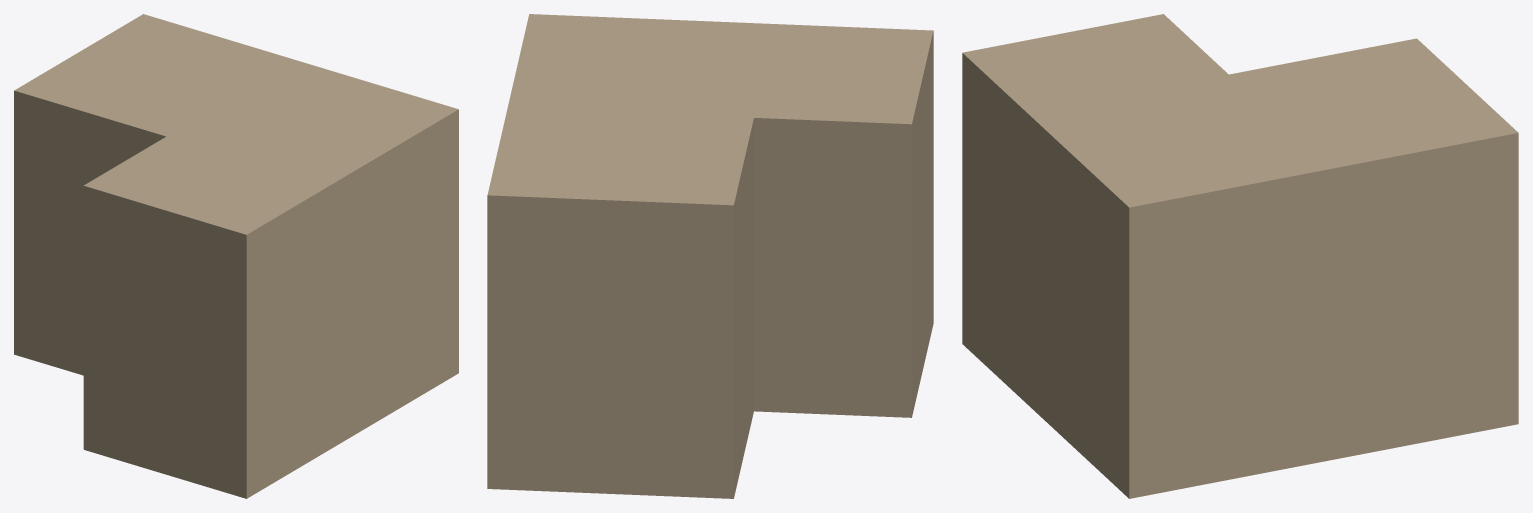
The model's file is bld_108161942.dae.
The picture shows the model from 3 angles, left to right: view 1: azimuth 30°, elevation 25°; view 2: azimuth 150°, elevation 25°; view 3: azimuth 270°, elevation 25°; orthographic projection. The views are drawn at different scales.
Parts seen in each view (by area): view 1: bld_108161942; view 2: bld_108161942; view 3: bld_108161942.
Boxes of the visible parts, left/top/right/bottom form: bld_108161942: left=14, top=14, right=458, bottom=498; bld_108161942: left=487, top=14, right=933, bottom=498; bld_108161942: left=962, top=14, right=1518, bottom=498.
Bounding box in the file's own units: 11.41 × 13.85 × 8.
